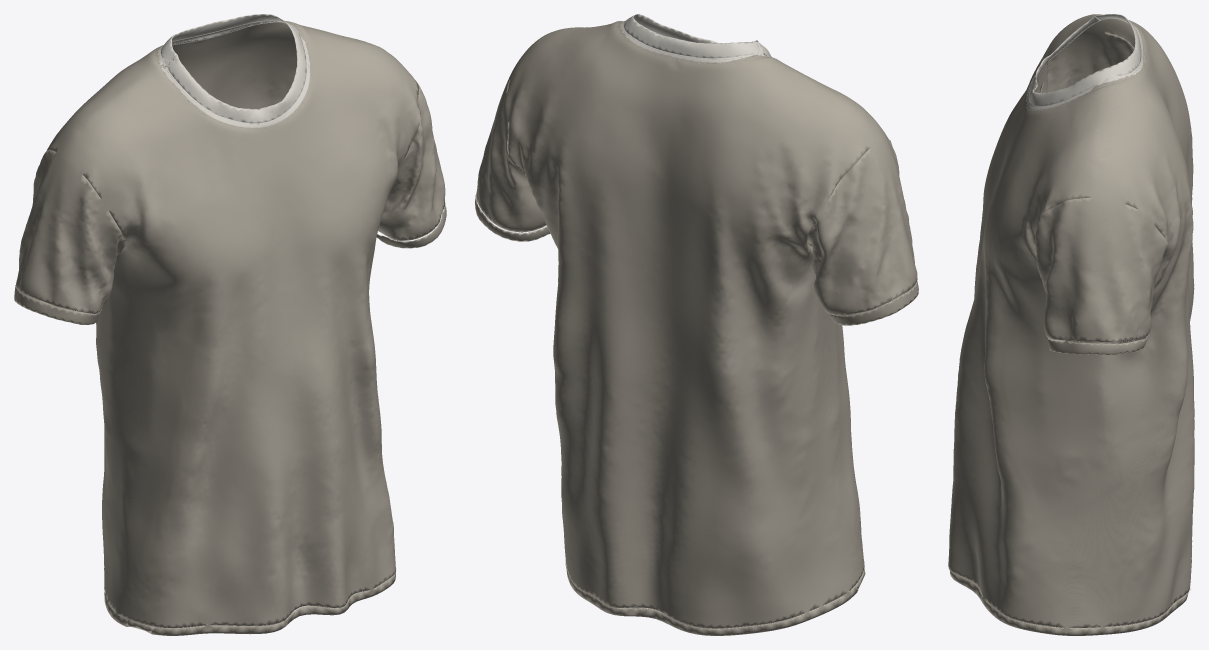
The model's file is tshirt-web-v10.glb.
The picture shows the model from 3 angles, left to right: view 1: azimuth 30°, elevation 25°; view 2: azimuth 150°, elevation 25°; view 3: azimuth 270°, elevation 25°; orthographic projection. The views are drawn at different scales.
Parts seen in each view (by area): view 1: REBUILD_Cotton_Body, REBUILD_Tonal_Double_Stitch; view 2: REBUILD_Cotton_Body; view 3: REBUILD_Cotton_Body, REBUILD_Tonal_Double_Stitch.
Boxes of the visible parts, box(x1,y1,x2,y2) form: REBUILD_Cotton_Body: box(14, 14, 446, 635); REBUILD_Tonal_Double_Stitch: box(15, 21, 445, 628); REBUILD_Cotton_Body: box(475, 14, 918, 635); REBUILD_Cotton_Body: box(948, 14, 1194, 635); REBUILD_Tonal_Double_Stitch: box(949, 23, 1190, 628).
Size of the model in its own units: 0.5578 by 0.705 by 0.2906.
Materials: 3 (1 with a texture image).
